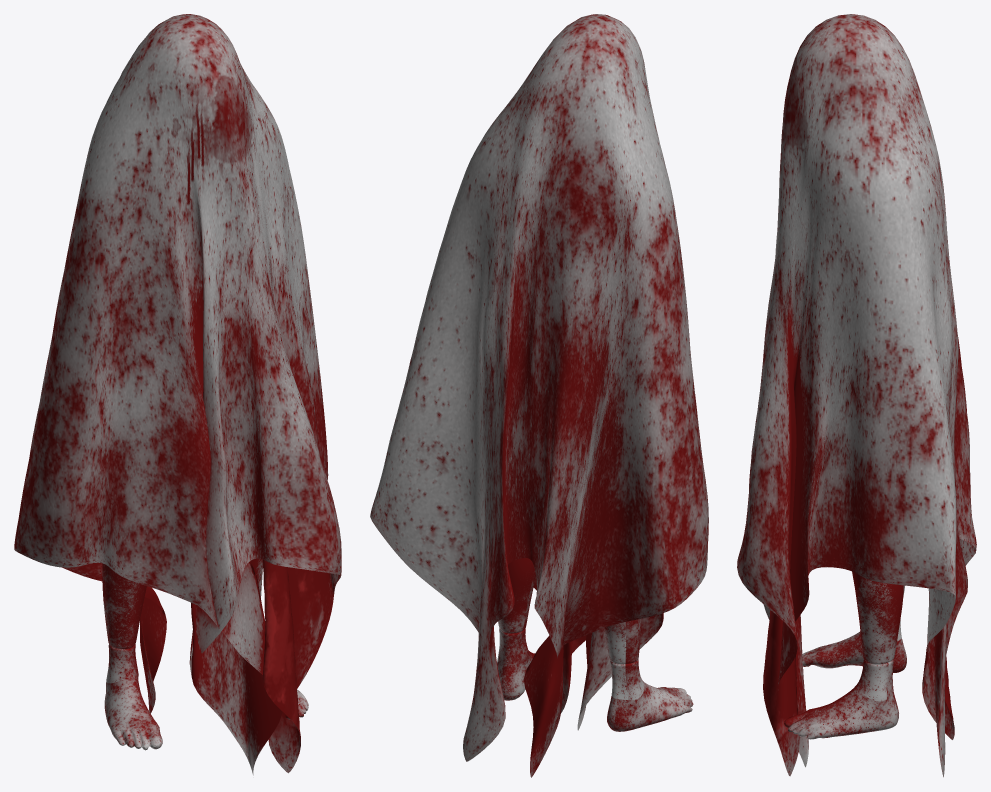
File: ghost.gltf
3 renders of one model, left to right at view 1: azimuth 30°, elevation 25°; view 2: azimuth 150°, elevation 25°; view 3: azimuth 270°, elevation 25°, orthographic. The views are drawn at different scales.
Visible parts, largest first — view 1: Plane, Ch36; view 2: Plane, Ch36; view 3: Plane, Ch36.
Part boxes in pixels (<box>): Plane: <box>14,14,341,775</box>; Ch36: <box>102,558,308,750</box>; Plane: <box>370,14,708,777</box>; Ch36: <box>497,558,693,731</box>; Plane: <box>737,14,976,777</box>; Ch36: <box>784,571,906,739</box>.
Bounding box in the file's own units: 1.16 × 2.7 × 0.8041.
2 materials, 2 textured.
